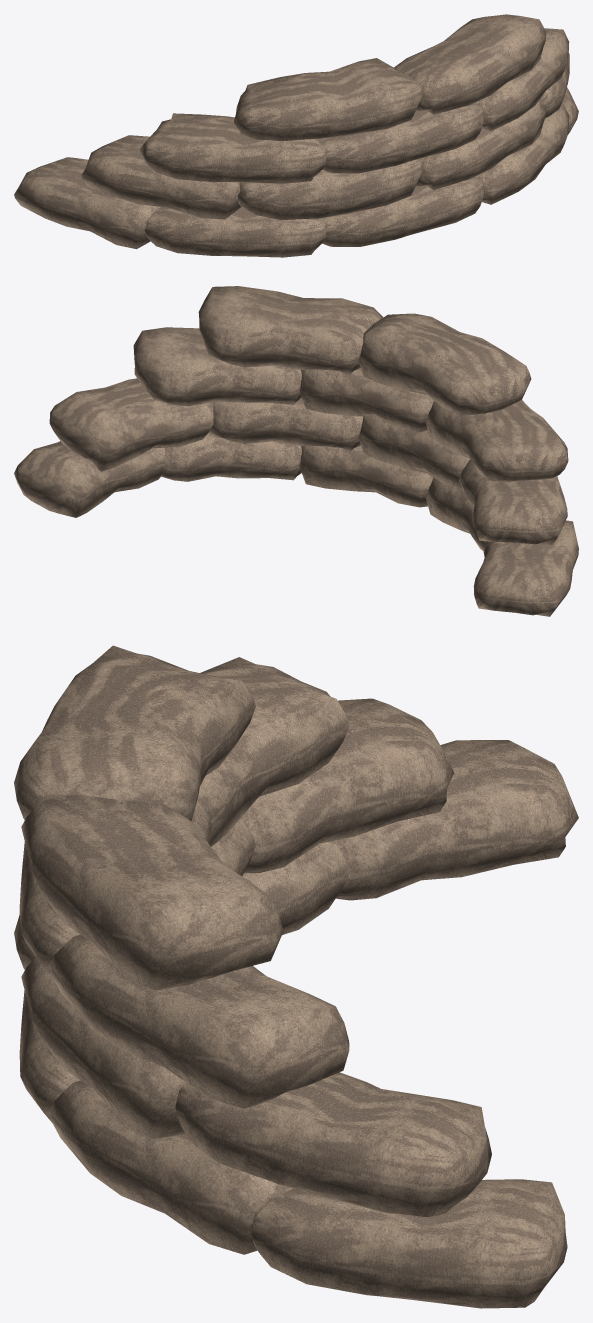
Rendered from sandbag_pile2.fbx.
3 renders of one model, top to bottom at view 1: azimuth 30°, elevation 25°; view 2: azimuth 150°, elevation 25°; view 3: azimuth 270°, elevation 25°, orthographic. The views are drawn at different scales.
Parts seen in each view (by area): view 1: sandbag_pile; view 2: sandbag_pile; view 3: sandbag_pile.
Part boxes in pixels (box(x1,y1,x2,y2)): sandbag_pile: box(14, 14, 578, 257); sandbag_pile: box(14, 286, 578, 616); sandbag_pile: box(14, 645, 578, 1308).
Bounding box in the file's own units: 6.11 × 1.8 × 2.84.
